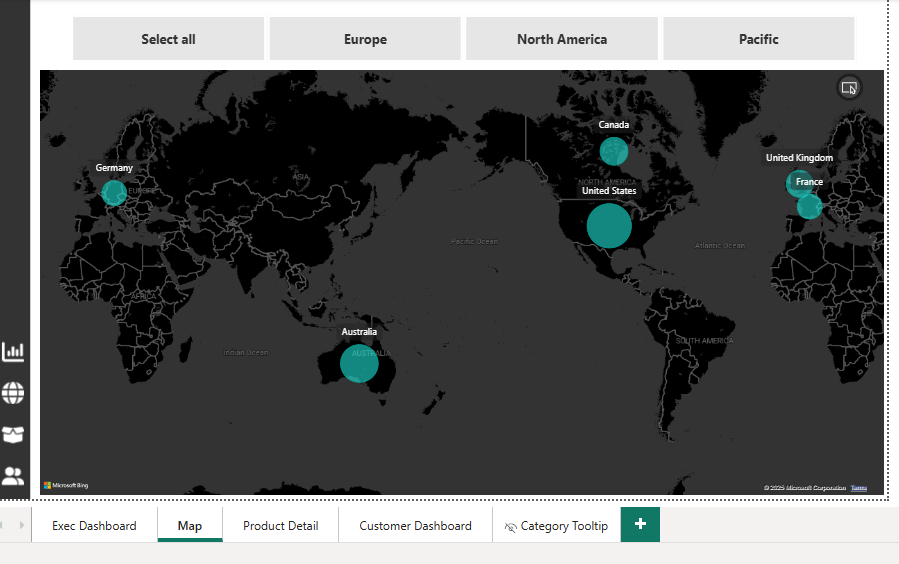

The dashboard page shown, as its layout file describes it:
{"tool":"powerbi","page":{"name":"Map","canvas":[1280,720],"ordinal":1},"visuals":[{"type":"shape","box":[0,0,45,720],"z":0},{"type":"actionButton","box":[0,488.2,44.6,40.3],"z":0,"group":"g1"},{"type":"map","fields":{"Category":["Territory Lookup.Country"],"Size":["Measure Table.Total Orders"]},"box":[54.7,97.9,1225.4,622.1],"z":1000},{"type":"actionButton","box":[0,607.2,44.6,40.3],"z":1000,"group":"g1"},{"type":"slicer","fields":{"Values":["Territory Lookup.Continent"]},"box":[77.8,15.8,1180.8,82.1],"z":2000},{"type":"actionButton","box":[0,666.8,44.6,40.3],"z":2000,"group":"g1"},{"type":"actionButton","box":[0,547.7,44.6,40.3],"z":3000,"group":"g1"},{"type":"group","id":"g1","title":"Navigation Buttons","box":[0,488.2,44.6,218.9],"z":3000}]}

Visuals, with their boxes on the page's 1280x720 design canvas (x1, y1, x2, y2). These are canvas units, not pixel positions in the 899x564 screenshot, which may show the page scaled, cropped or inside an application window:
shape: box(0, 0, 45, 720)
actionButton: box(0, 488, 45, 528)
map - Territory Lookup.Country x Measure Table.Total Orders: box(55, 98, 1280, 720)
actionButton: box(0, 607, 45, 648)
slicer - Territory Lookup.Continent: box(78, 16, 1259, 98)
actionButton: box(0, 667, 45, 707)
actionButton: box(0, 548, 45, 588)
"Navigation Buttons" group: box(0, 488, 45, 707)
